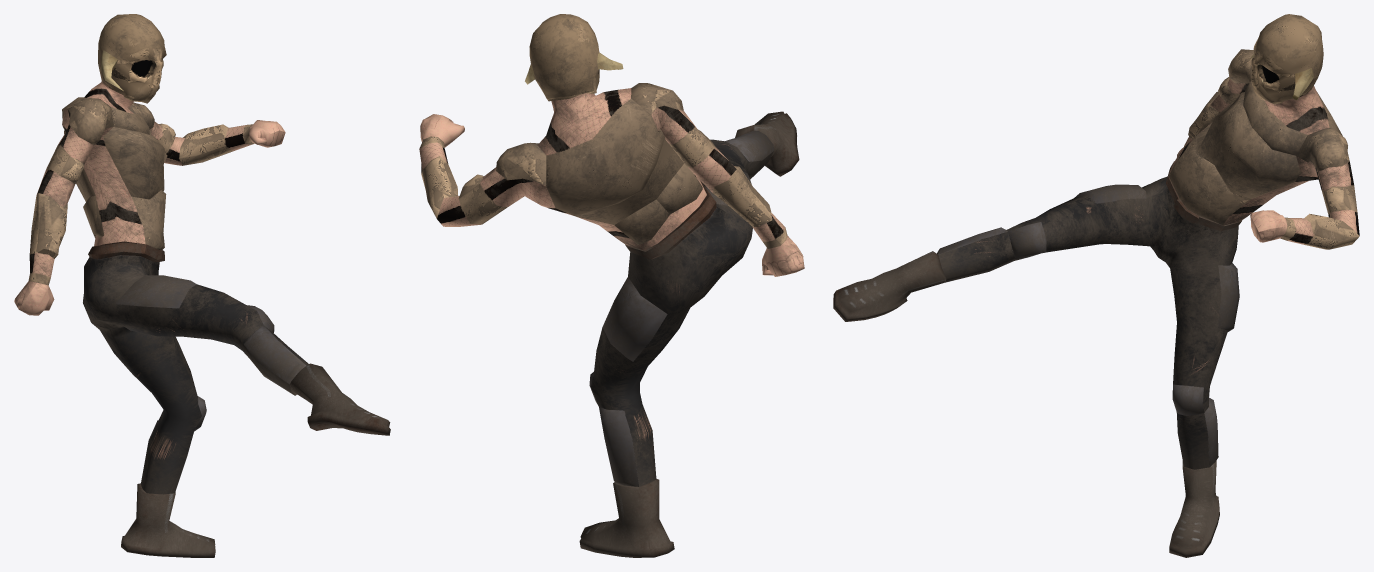
File: Anim_ataque_f2_npc1.0020.obj
3 views of the same model, side by side, from view 1: azimuth 30°, elevation 25°; view 2: azimuth 150°, elevation 25°; view 3: azimuth 270°, elevation 25° (orthographic). The views are drawn at different scales.
Parts seen in each view (by area): view 1: NPC2; view 2: NPC2; view 3: NPC2.
Boxes of the visible parts, bbox=[...] form: NPC2: bbox=[14, 14, 390, 557]; NPC2: bbox=[419, 14, 804, 557]; NPC2: bbox=[833, 14, 1359, 557].
Size of the model in its own units: 5.64 by 9.01 by 8.22.
